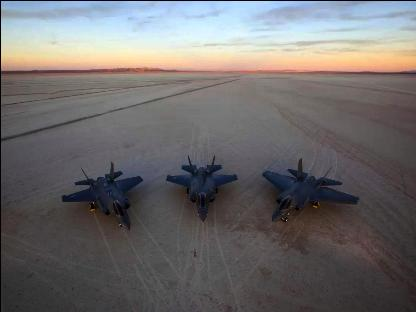F22: (262, 157, 360, 221), (61, 160, 142, 228), (165, 154, 237, 220)
